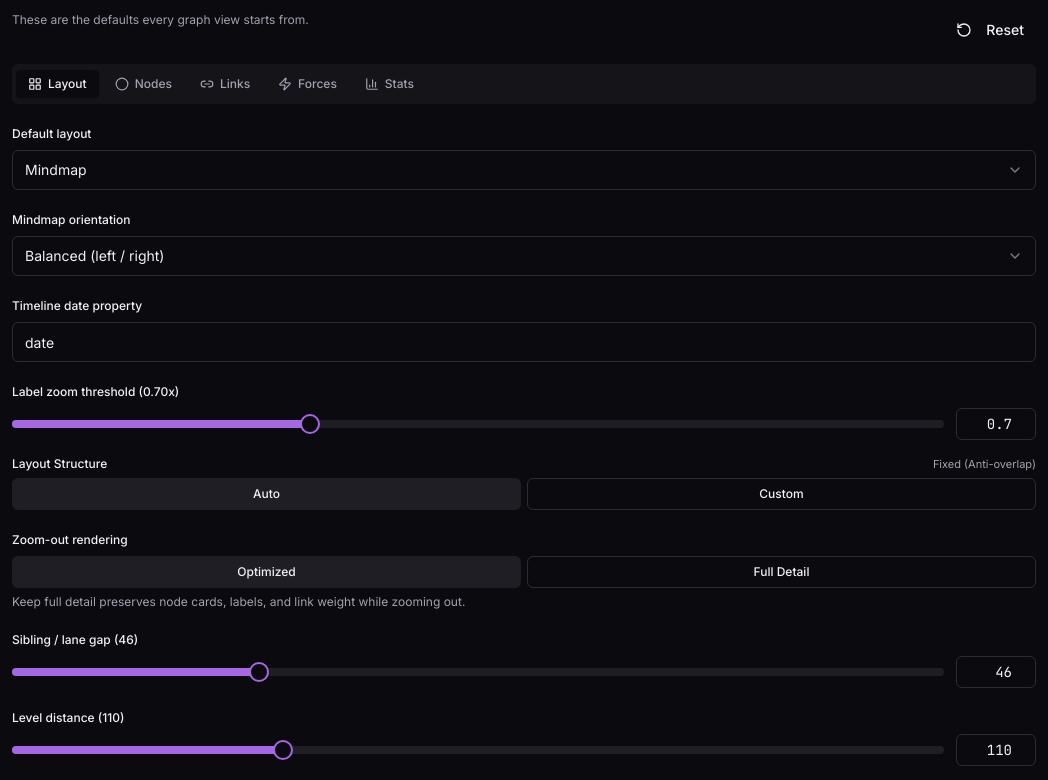
UI-STEP-04..06 Verification Suite › UI-STEP-04: renders FreeForceControls inside SettingsGraphEngineSection forces tab
The width and height of the screenshot is (1048, 780).
Press the mouse on the tab "Forces" at (308, 84), box top-left (266, 70), bottom-right (349, 98)
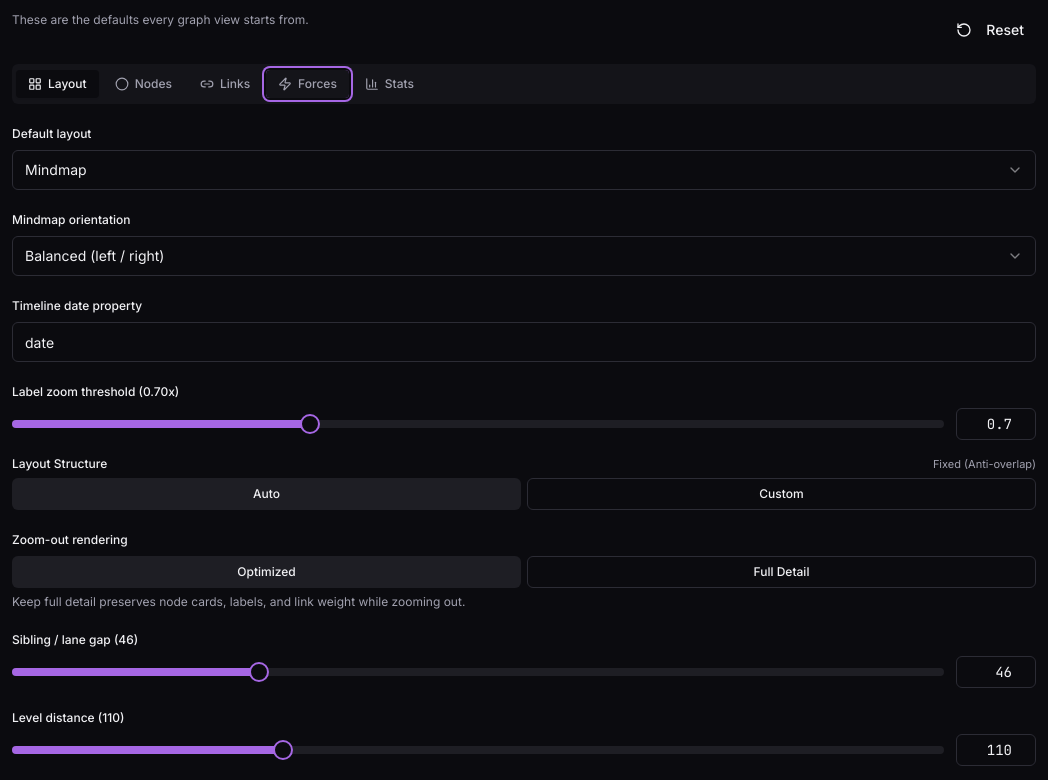
Click the tab "Forces" at (308, 84), box top-left (266, 70), bottom-right (349, 98)
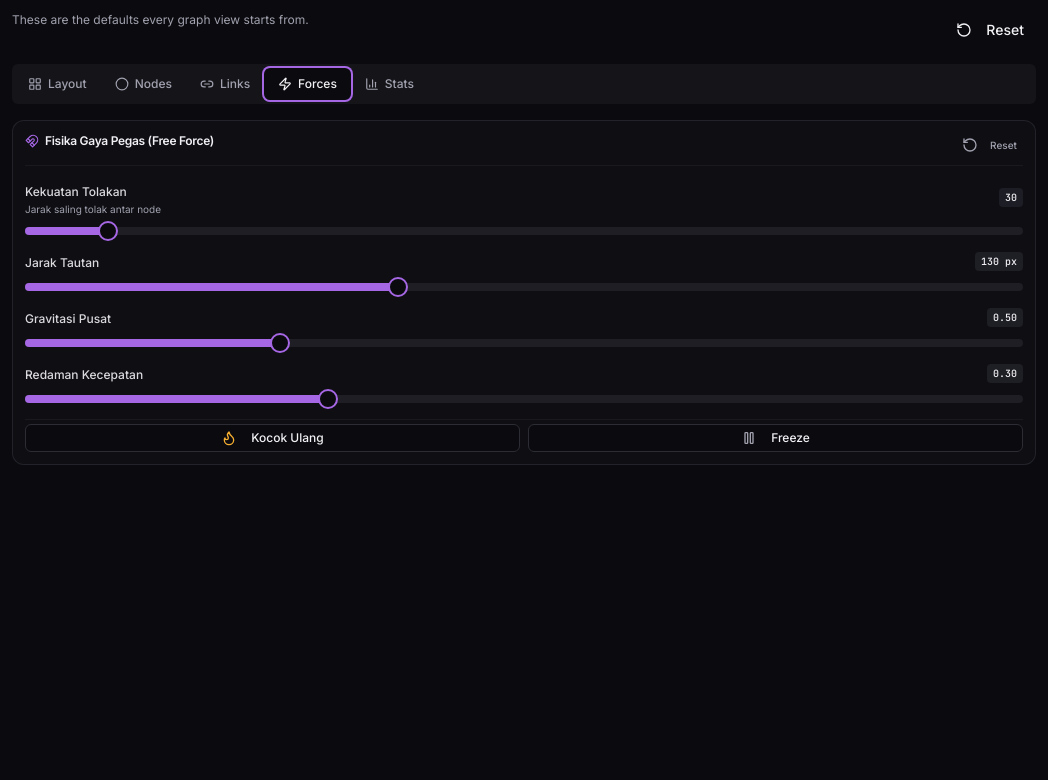
Result: the text "Fisika Gaya Pegas (Free Force)" is shown at top-left (45, 133), bottom-right (214, 149)
Result: the text "Kocok Ulang" is shown at top-left (25, 424), bottom-right (520, 452)
Result: the text "Freeze" is shown at top-left (528, 424), bottom-right (1023, 452)
